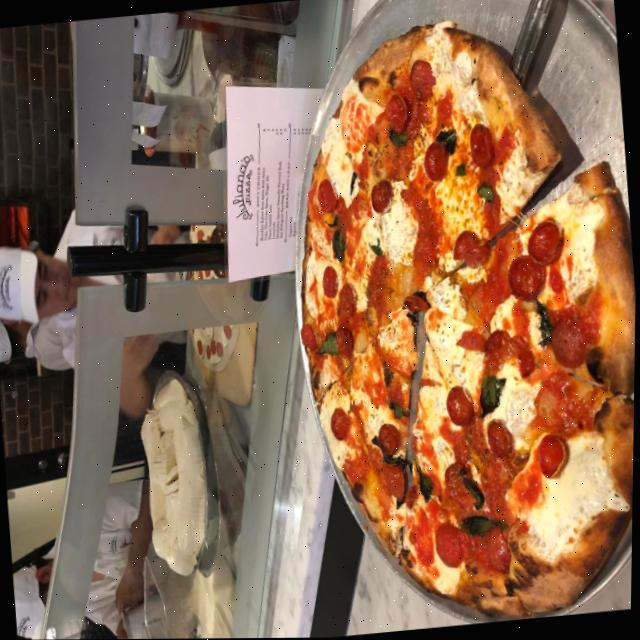pepperoni: (551, 316, 592, 369), (442, 460, 477, 514), (526, 219, 564, 266), (452, 227, 493, 270), (535, 432, 572, 479), (435, 520, 470, 569), (486, 524, 514, 575), (407, 57, 437, 102), (445, 384, 476, 427), (468, 123, 496, 169), (422, 139, 451, 183), (487, 417, 514, 459), (385, 93, 411, 135), (384, 462, 408, 502), (377, 421, 403, 456), (369, 179, 395, 214), (330, 405, 353, 442), (316, 177, 339, 213), (335, 325, 355, 358), (484, 328, 508, 355), (321, 265, 340, 298), (403, 291, 431, 313), (339, 282, 356, 316), (300, 322, 318, 351), (405, 484, 419, 509)
pizza: (272, 4, 640, 633)
